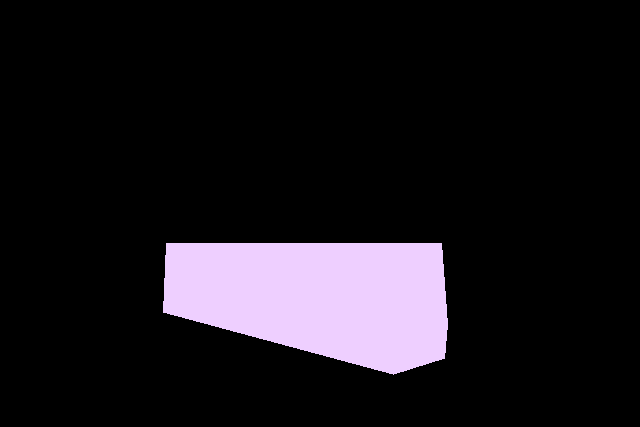Train: (163, 243, 448, 374)
